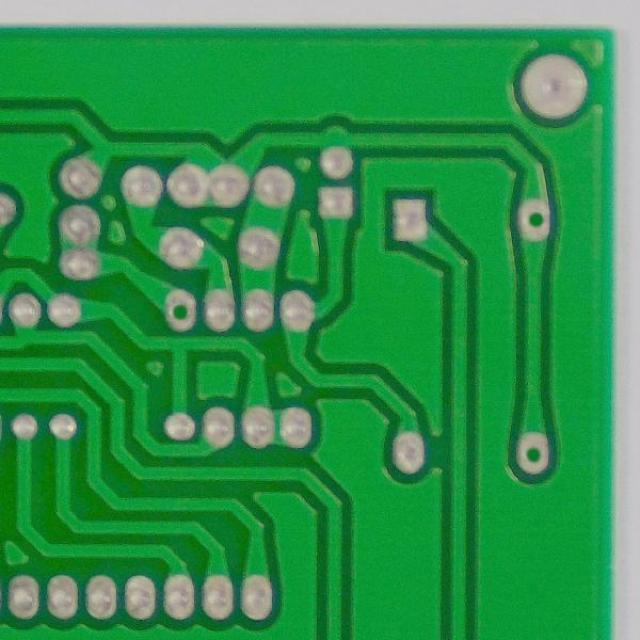Missing_Hole: (509, 426, 556, 479), (154, 286, 204, 334), (512, 194, 557, 243)
